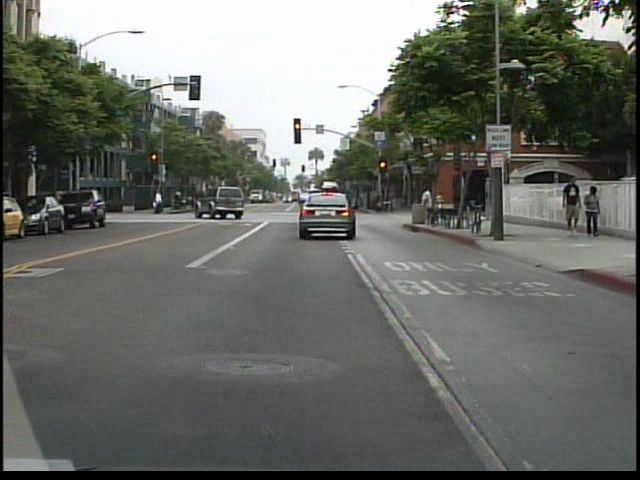person: (560, 169, 587, 234), (582, 181, 607, 238), (420, 181, 441, 225), (154, 185, 171, 219)
